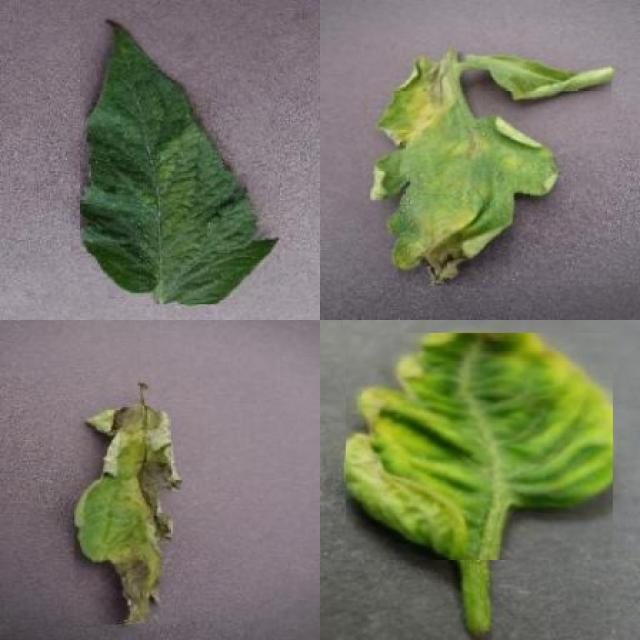Late Blight: (364, 52, 612, 285), (74, 406, 180, 624)
Spider Mites: (80, 16, 280, 305)
Yellow Leaf Curl Virus: (346, 333, 613, 560)
